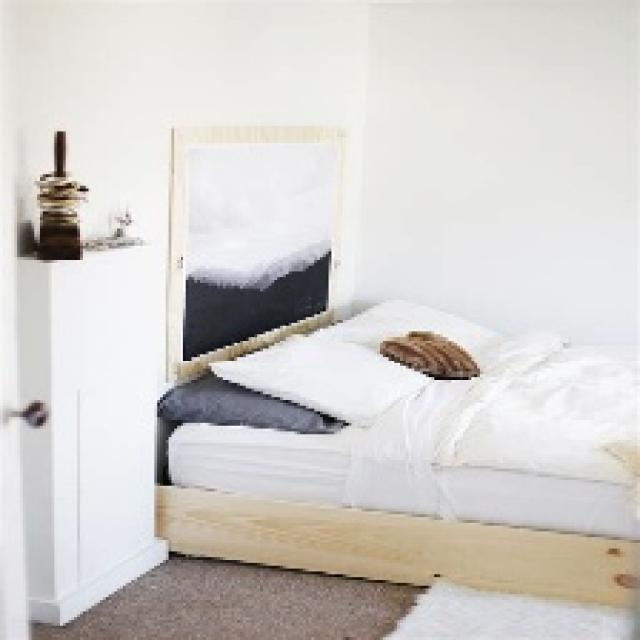Bed: (154, 294, 637, 637)
